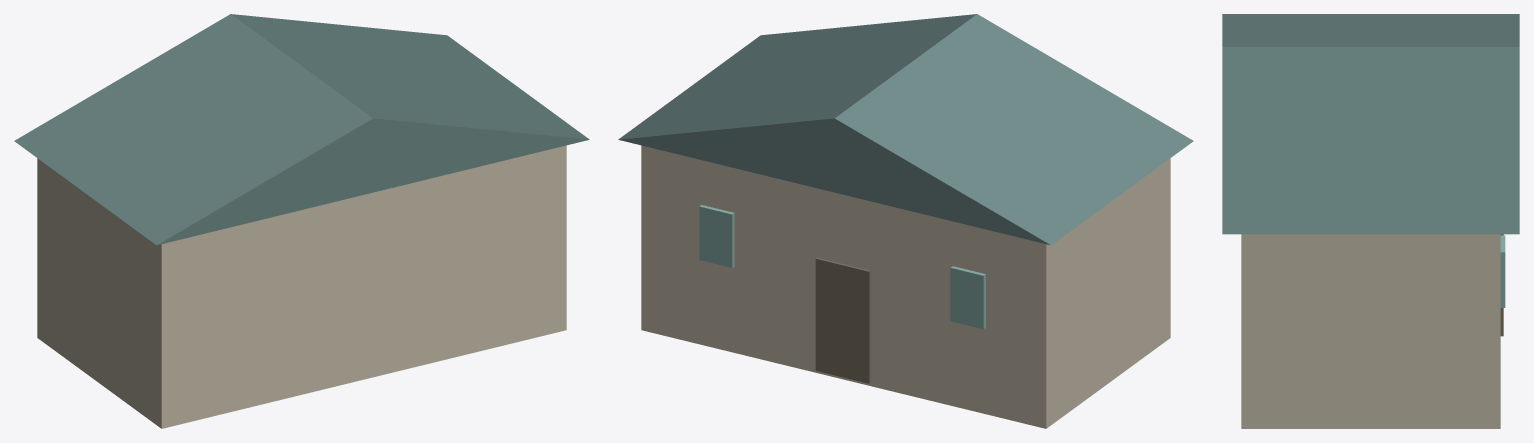
File: city_east_hall.glb
3 views of the same model, side by side, from view 1: azimuth 30°, elevation 25°; view 2: azimuth 150°, elevation 25°; view 3: azimuth 270°, elevation 25° (orthographic). The views are drawn at different scales.
Parts seen in each view (by area): view 1: east_hall; view 2: east_hall; view 3: east_hall.
Boxes of the visible parts, <box> form: east_hall: <box>14,14,589,428</box>; east_hall: <box>618,14,1193,428</box>; east_hall: <box>1222,14,1519,428</box>.
Size of the model in its own units: 5.5 by 3.25 by 3.14.
